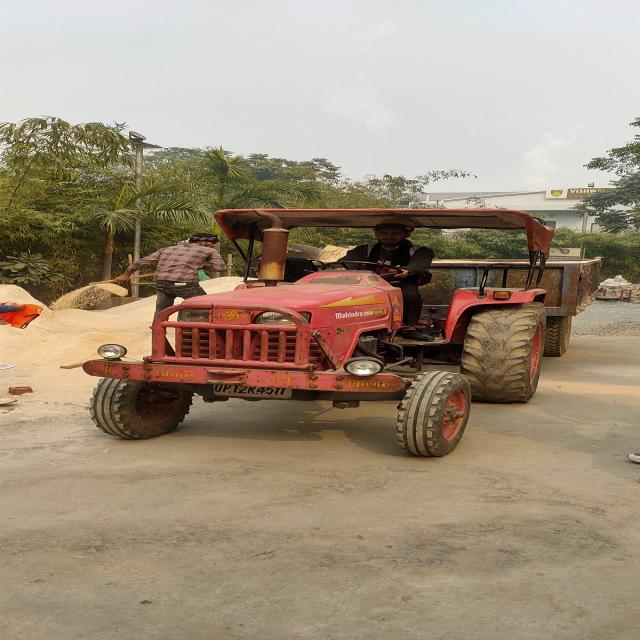safe: (344, 217, 432, 286)
unsafe: (119, 234, 223, 295)
